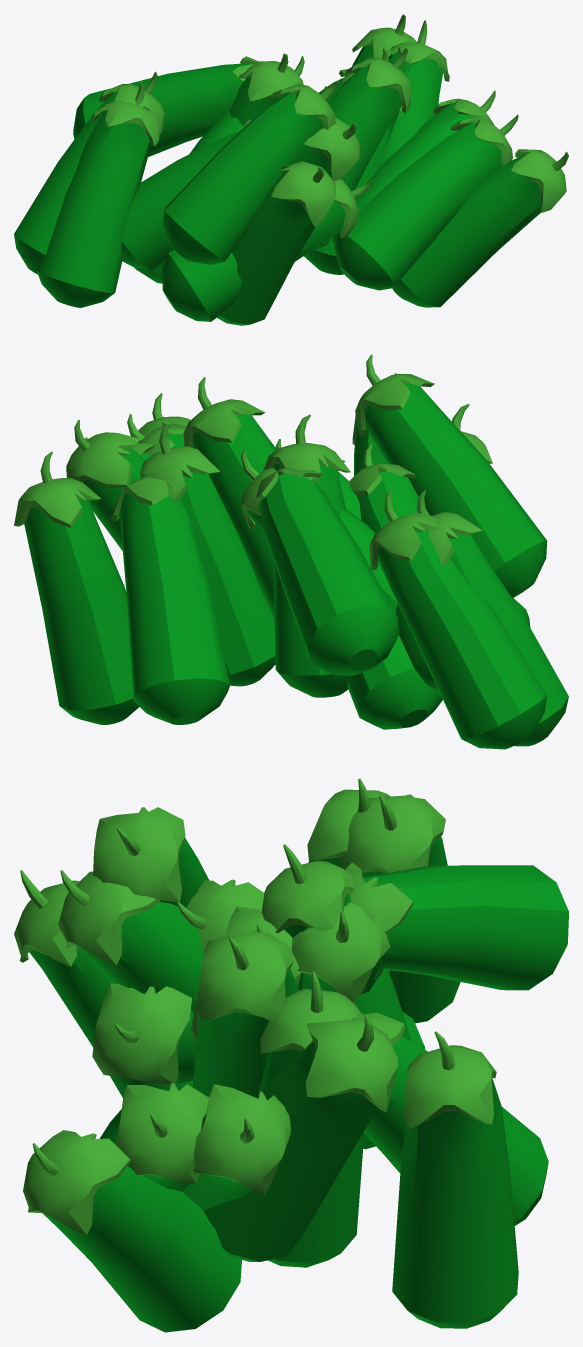
Rendered from calabacines.fbx.
3 views of the same model, one above another, from view 1: azimuth 30°, elevation 25°; view 2: azimuth 150°, elevation 25°; view 3: azimuth 270°, elevation 25° (orthographic). The views are drawn at different scales.
Visible parts, largest first — view 1: Berenjenas; view 2: Berenjenas; view 3: Berenjenas.
Part boxes in pixels (x1=…): Berenjenas: x1=14, y1=14, x2=568, y2=325; Berenjenas: x1=14, y1=354, x2=568, y2=749; Berenjenas: x1=14, y1=778, x2=568, y2=1332.
Bounding box in the file's own units: 83.01 × 47.2 × 57.29.
